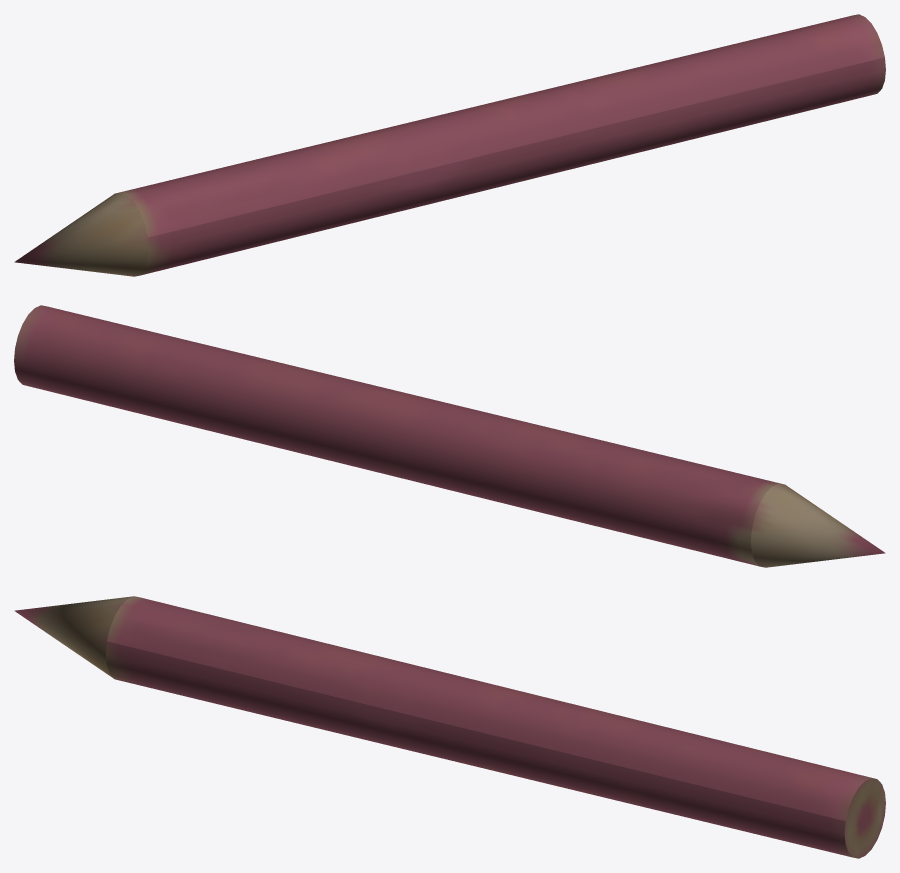
The model's file is SM_Farm_Pencil_04.fbx.
3 views of the same model, one above another, from view 1: azimuth 30°, elevation 25°; view 2: azimuth 150°, elevation 25°; view 3: azimuth 330°, elevation 25° (orthographic).
Parts seen in each view (by area): view 1: SM_Farm_Pencil_04_LOD0; view 2: SM_Farm_Pencil_04_LOD0; view 3: SM_Farm_Pencil_04_LOD0.
Boxes of the visible parts, x1,y1,x2,y2 form: SM_Farm_Pencil_04_LOD0: [14, 14, 885, 276]; SM_Farm_Pencil_04_LOD0: [14, 305, 885, 567]; SM_Farm_Pencil_04_LOD0: [14, 596, 885, 858].
Bounding box in the file's own units: 25.32 × 2.23 × 2.23.
